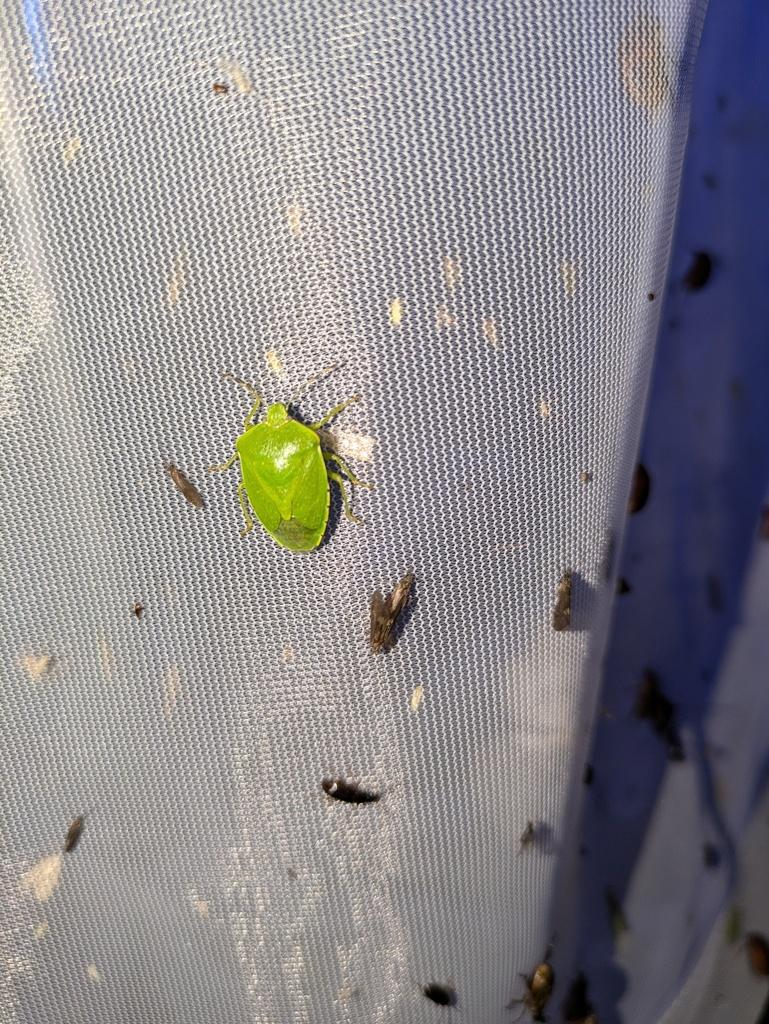stink_bugs: (168, 345, 411, 577)
